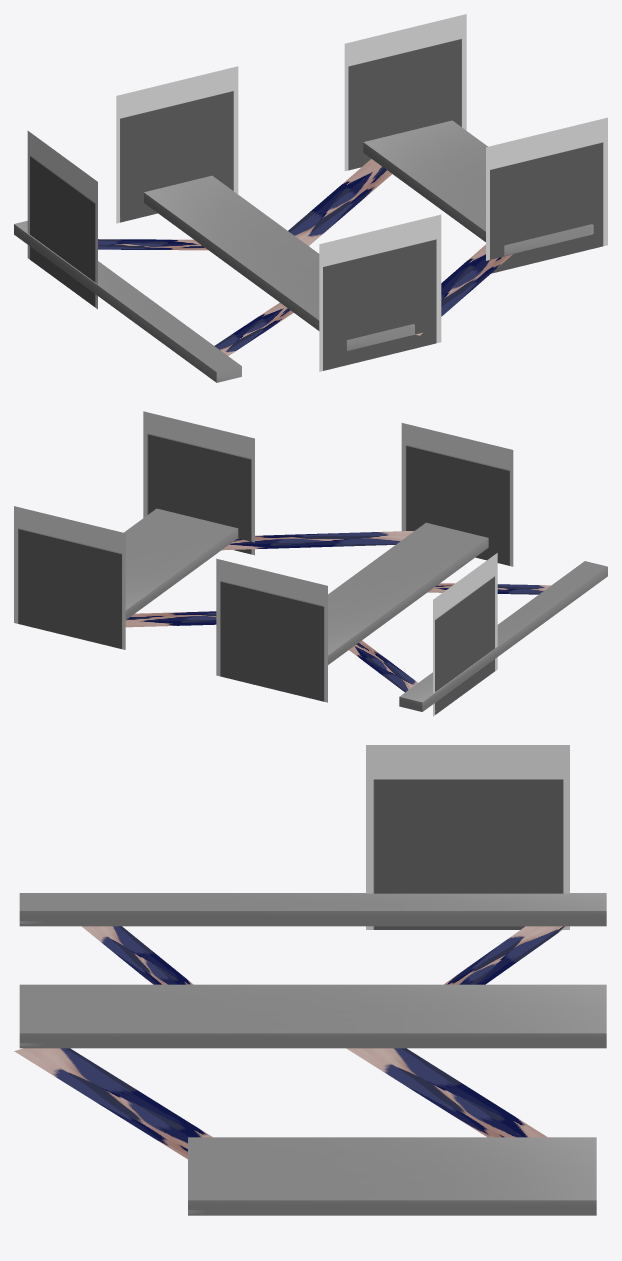
Rendered from cell2.2.obj.
3 views of the same model, one above another, from view 1: azimuth 30°, elevation 25°; view 2: azimuth 150°, elevation 25°; view 3: azimuth 270°, elevation 25° (orthographic). The views are drawn at different scales.
Parts seen in each view (by area): view 1: Plane, Plane.003, Plane.001, Plane.002, cube.001_Cube.002, cube_Cube.001, Plane.005, cube.002_Cube.003, Plane.007, Plane.008, Plane.004, Plane.006; view 2: Plane.001, Plane.002, Plane, Plane.003, cube.001_Cube.002, Plane.005, cube_Cube.001, cube.002_Cube.003, Plane.008, Plane.007, Plane.006, Plane.004; view 3: cube.001_Cube.002, cube_Cube.001, Plane.005, cube.002_Cube.003, Plane.008, Plane.007, Plane.006, Plane.004.
Part boxes in pixels (x1,y1,x2,y2): Plane: (319,214,441,371); Plane.003: (486,117,607,273); Plane.001: (116,66,238,223); Plane.002: (344,14,466,171); cube.001_Cube.002: (144,175,414,351); cube_Cube.001: (363,120,593,255); Plane.005: (27,131,97,309); cube.002_Cube.003: (14,220,241,382); Plane.007: (288,159,391,245); Plane.008: (415,244,512,335); Plane.004: (214,302,293,355); Plane.006: (98,239,207,250); Plane.001: (216,558,327,702); Plane.002: (14,506,125,649); Plane: (401,423,513,566); Plane.003: (143,411,254,555); cube.001_Cube.002: (328,522,488,664); Plane.005: (433,553,497,716); cube_Cube.001: (124,508,238,619); cube.002_Cube.003: (399,561,607,711); Plane.008: (222,531,413,550); Plane.007: (125,611,216,627); Plane.006: (349,640,417,692); Plane.004: (427,583,550,594); cube.001_Cube.002: (19,984,606,1048); cube_Cube.001: (188,1137,596,1215); Plane.005: (366,745,569,929); cube.002_Cube.003: (19,893,606,926); Plane.008: (14,1048,212,1159); Plane.007: (346,1048,547,1137); Plane.006: (444,926,566,984); Plane.004: (82,926,193,984).
Size of the model in its own units: 15.36 by 4.17 by 12.14.
